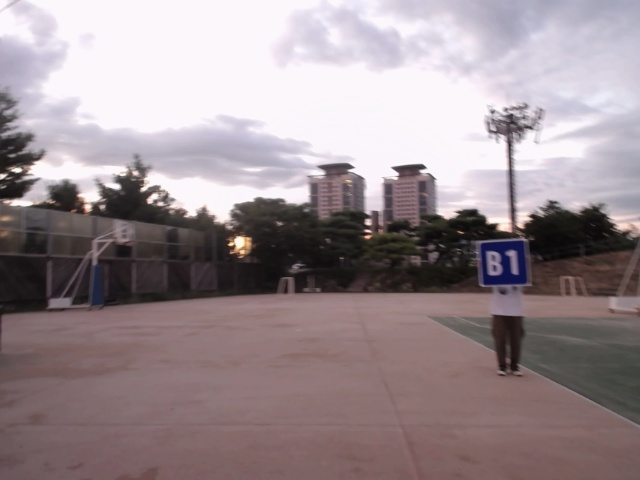delivery_b1: (478, 240, 529, 286)
